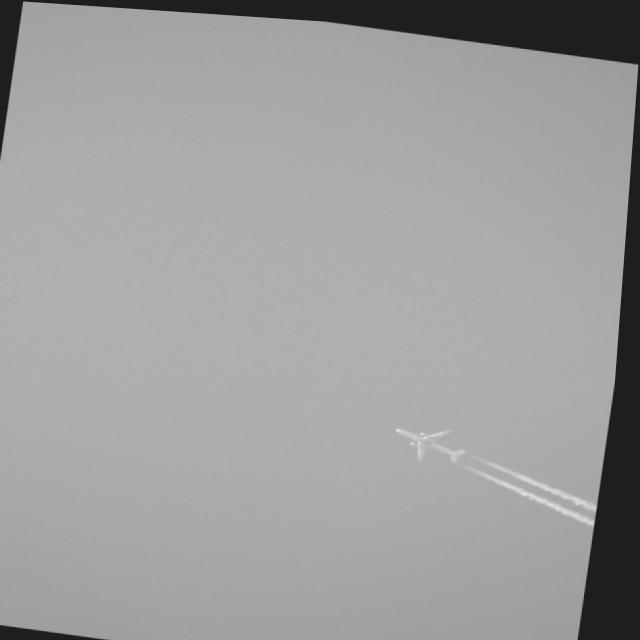aeroplane: (390, 413, 477, 463)
